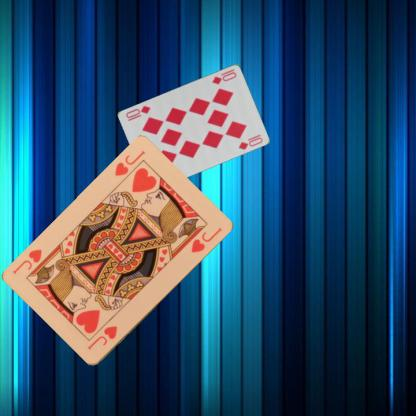10d: (209, 66, 238, 85)
Jh: (112, 148, 147, 178), (84, 323, 118, 352)
